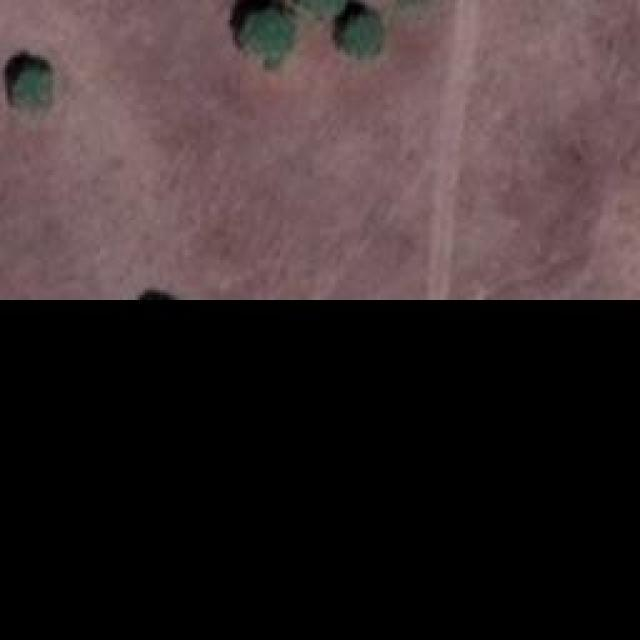Tree: (245, 8, 293, 61), (8, 67, 48, 105), (345, 15, 383, 53)
